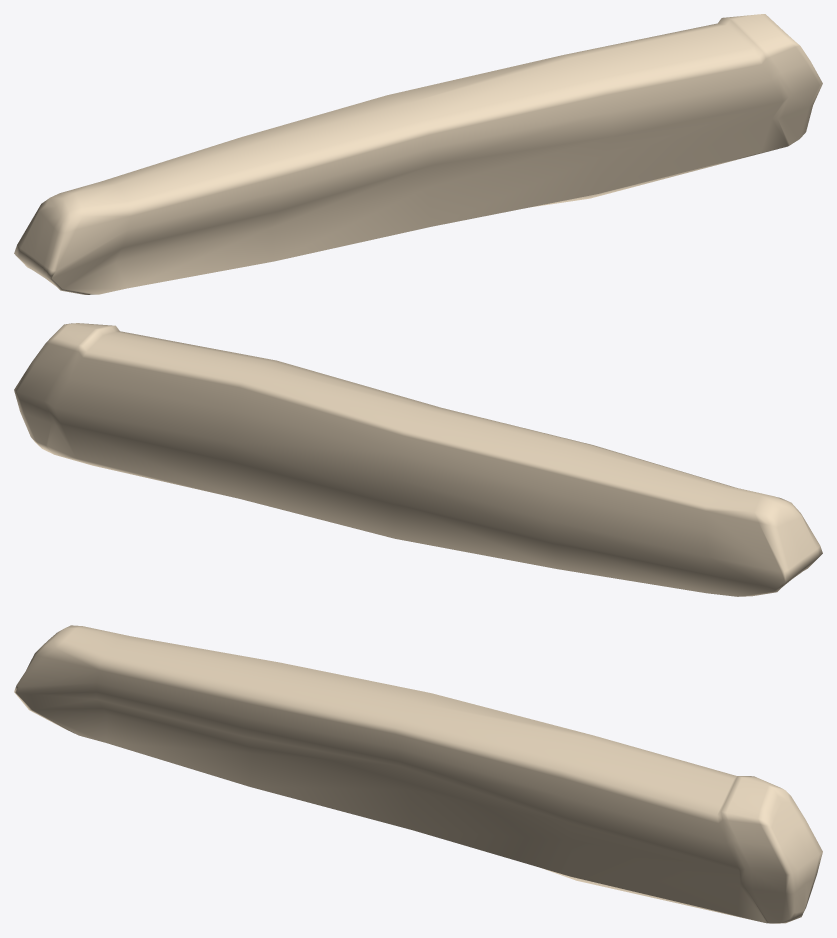
Rendered from WOOD_C_UI.fbx.
The picture shows the model from 3 angles, top to bottom: view 1: azimuth 30°, elevation 25°; view 2: azimuth 150°, elevation 25°; view 3: azimuth 330°, elevation 25°; orthographic projection.
Visible parts, largest first — view 1: WOOD_C_UI; view 2: WOOD_C_UI; view 3: WOOD_C_UI.
Boxes of the visible parts, box(x1,y1,x2,y2) form: WOOD_C_UI: box(14, 14, 822, 294); WOOD_C_UI: box(14, 323, 822, 596); WOOD_C_UI: box(14, 625, 822, 923).
Bounding box in the file's own units: 4.6 × 0.7841 × 0.5279.
